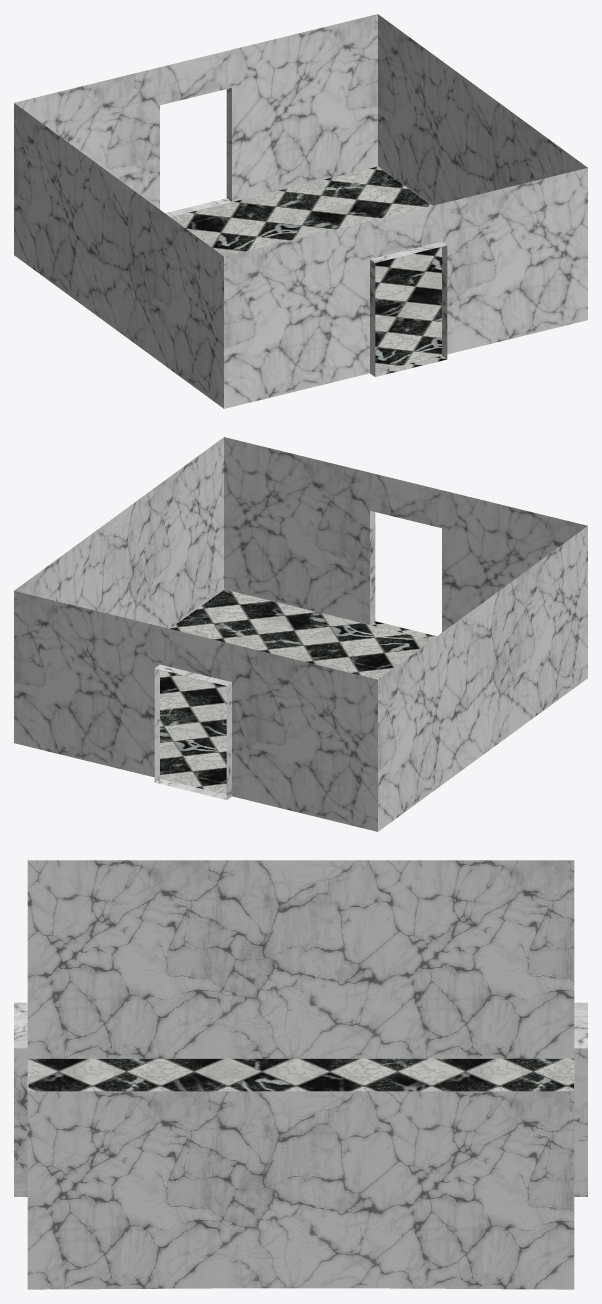
The model's file is room5.fbx.
3 views of the same model, one above another, from view 1: azimuth 30°, elevation 25°; view 2: azimuth 150°, elevation 25°; view 3: azimuth 270°, elevation 25° (orthographic). The views are drawn at different scales.
Visible parts, largest first — view 1: Room5; view 2: Room5; view 3: Room5.
Part boxes in pixels (x1,y1,x2,y2): Room5: (14,14,587,408); Room5: (14,437,587,831); Room5: (14,860,587,1289).
Size of the model in its own units: 610 by 244 by 640.
